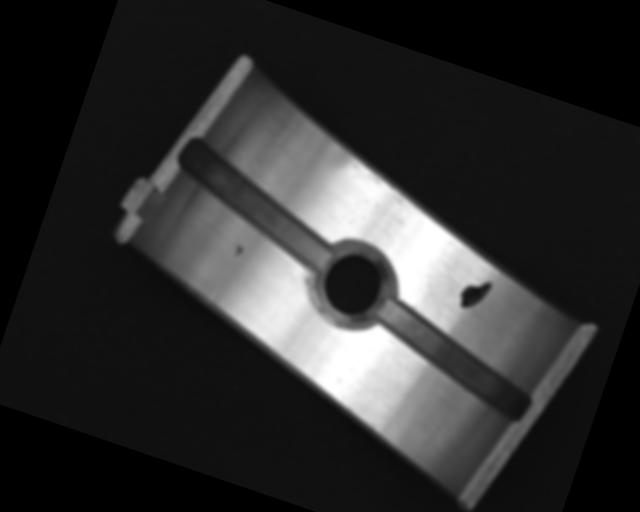blot: (456, 274, 493, 315)
bruise: (232, 243, 244, 259)
gap: (162, 137, 351, 274), (360, 298, 549, 426)
hole: (304, 235, 403, 339)
